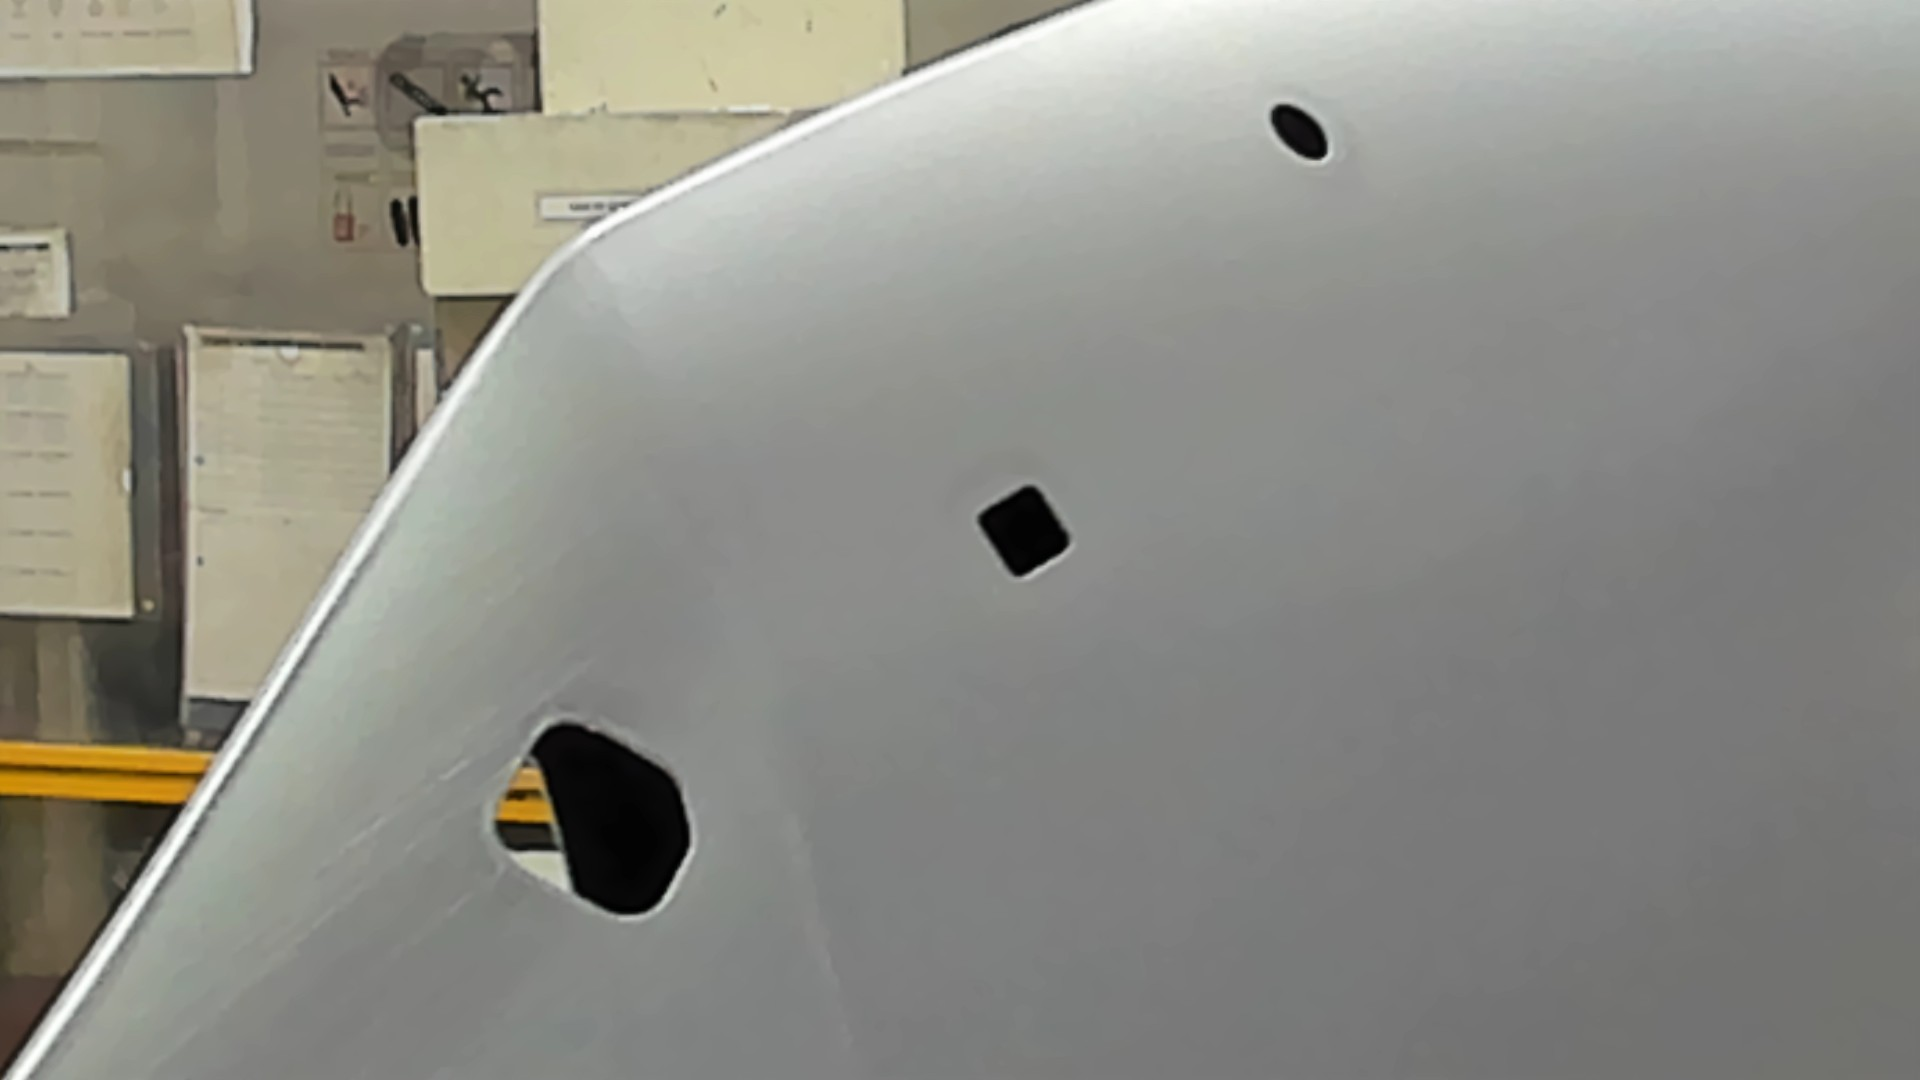chico: (1266, 96, 1332, 165)
grande: (484, 712, 703, 924)
mediano: (972, 480, 1073, 582)
